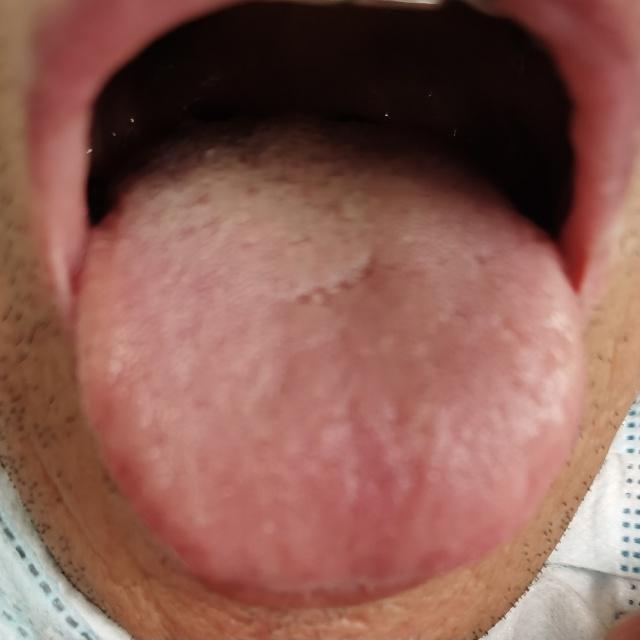baitaishe: (75, 151, 582, 612)
